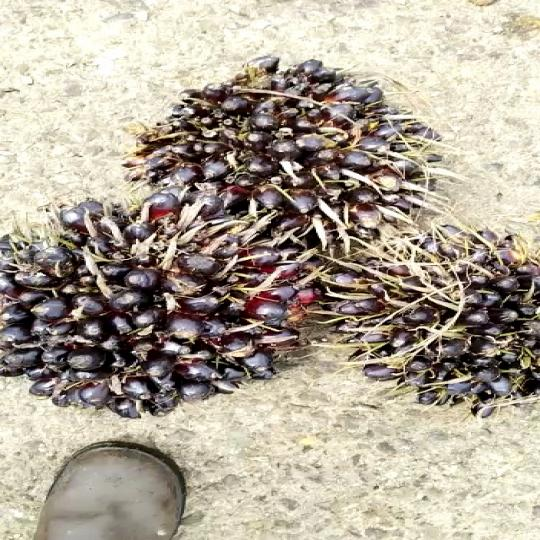mentah: (0, 163, 334, 399), (116, 47, 516, 244), (313, 220, 540, 408)
